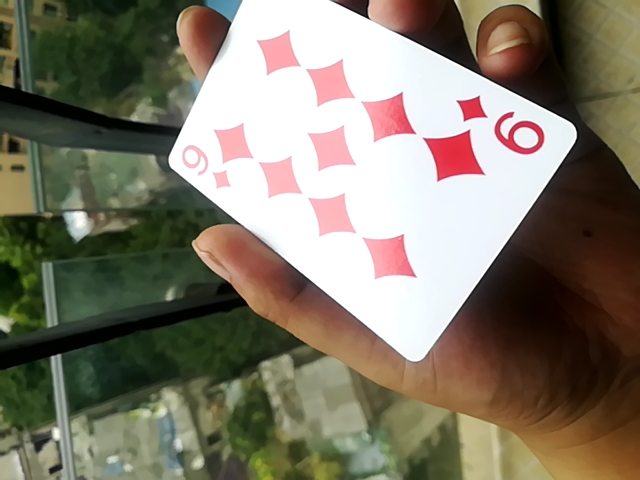fk 9: (152, 7, 585, 370)
